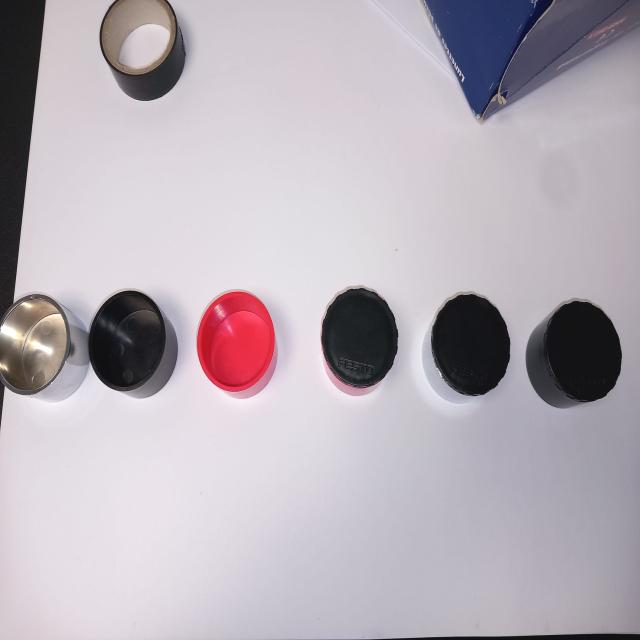NoLid: (0, 292, 88, 402), (195, 290, 281, 402), (91, 294, 180, 402)
Workpiece: (524, 298, 624, 414), (421, 286, 511, 407), (318, 285, 402, 399)
